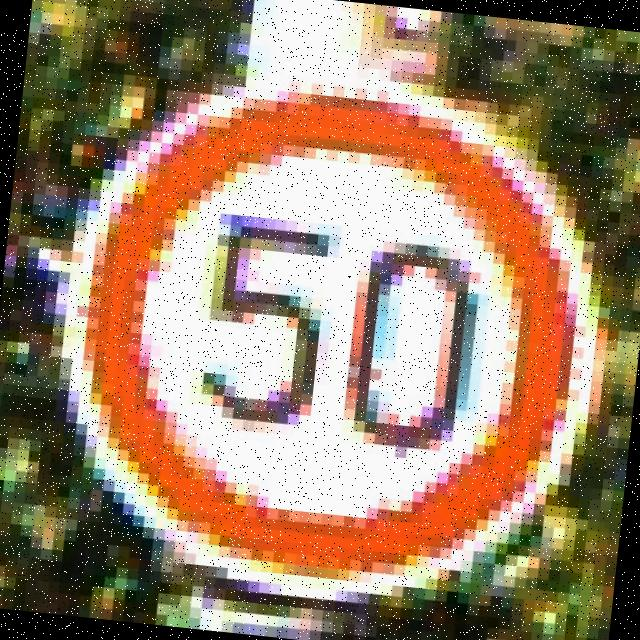Ograniczenie predkosci do 50: (51, 71, 604, 604)
